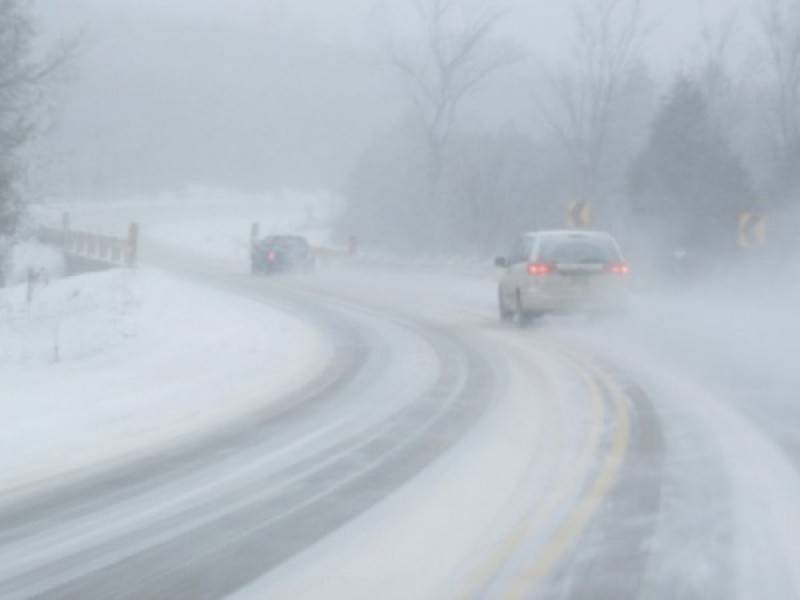car: (494, 230, 636, 330), (251, 233, 318, 277)
